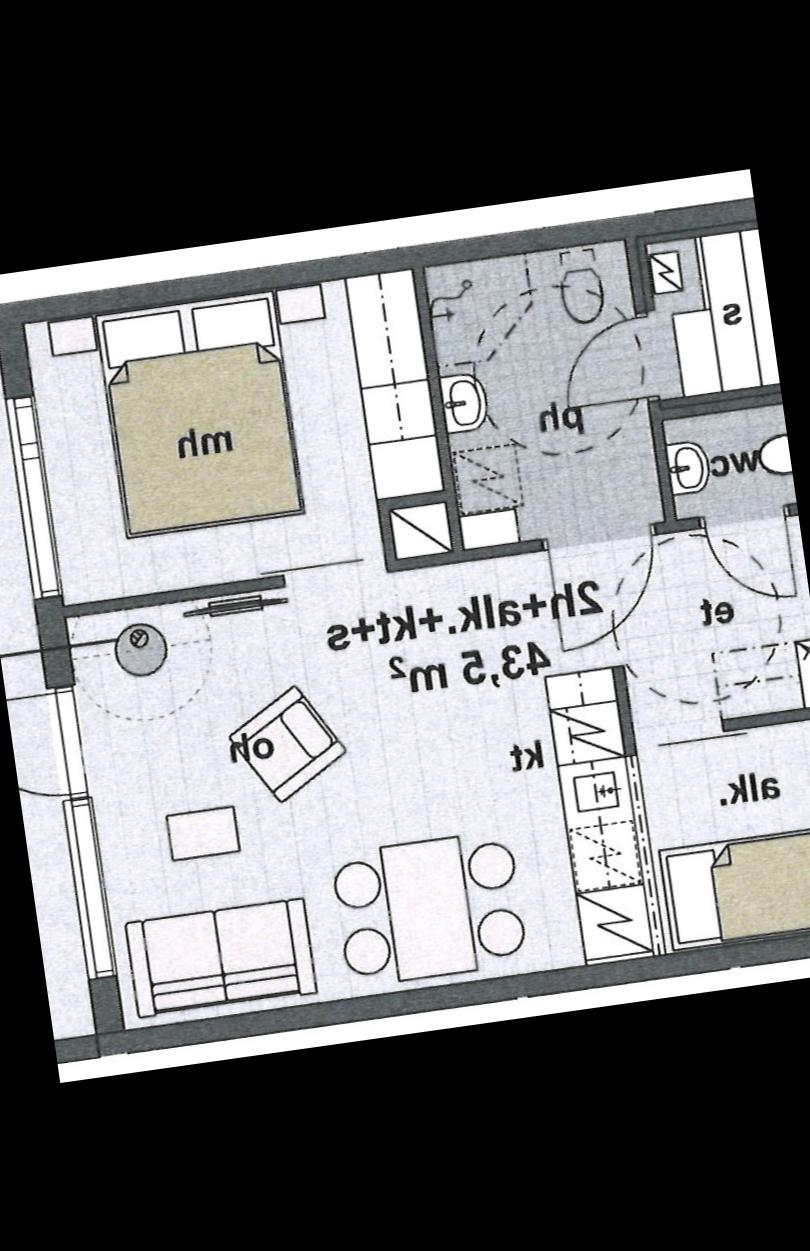door: (534, 518, 671, 656), (550, 304, 666, 416), (696, 502, 806, 616), (5, 682, 84, 806)
window: (0, 380, 68, 613), (53, 790, 122, 989)
